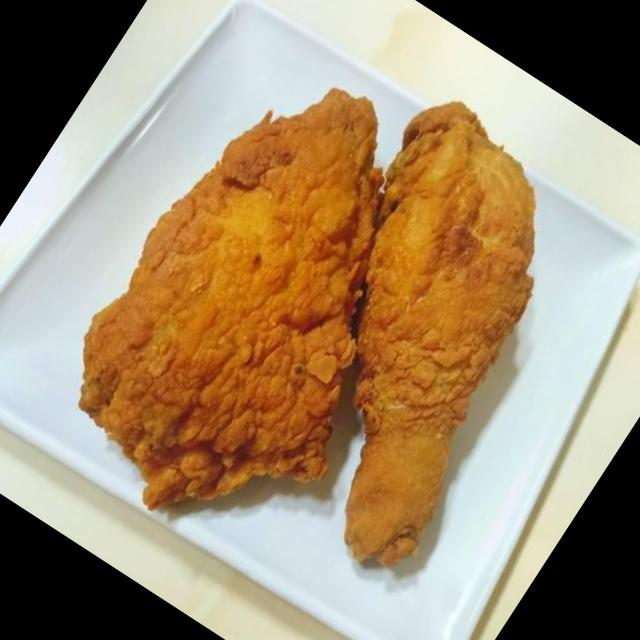Fried Chicken: (78, 89, 379, 513), (341, 101, 535, 570)
